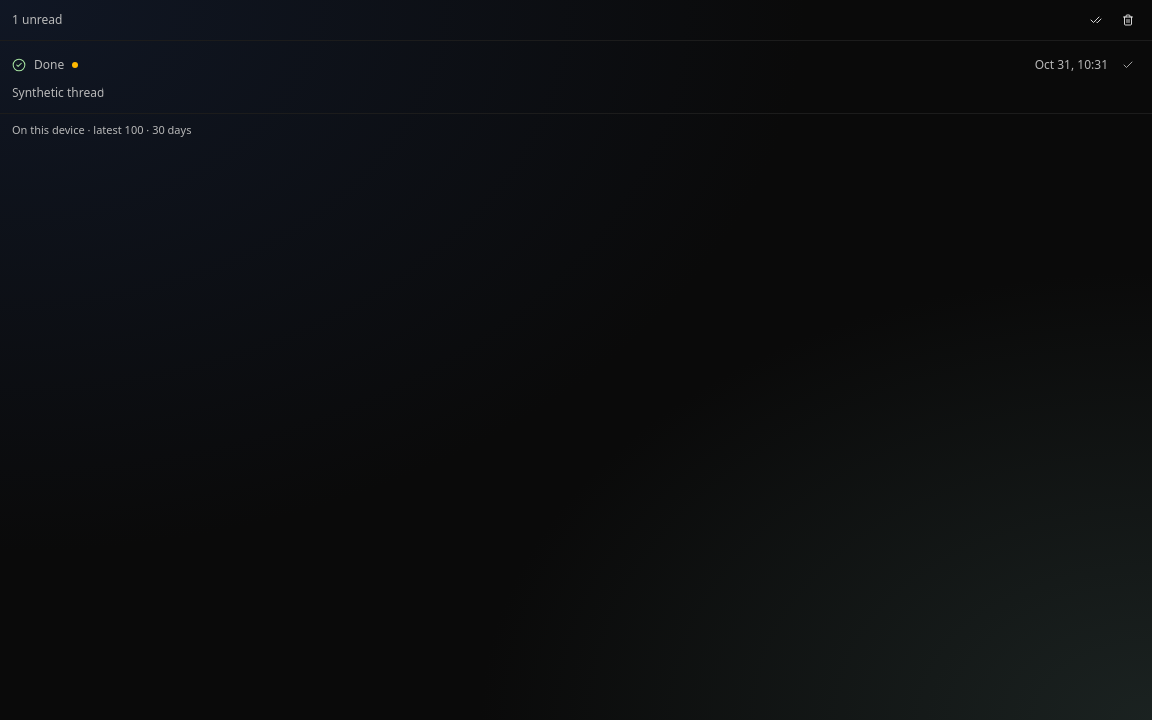
Scenario: Notifications center › opens a known thread, marks its notice read, and withdraws navigation after removal
The image size is (1152, 720).
Click the button "Synthetic thread" at (58, 93), box [12,85,104,101]
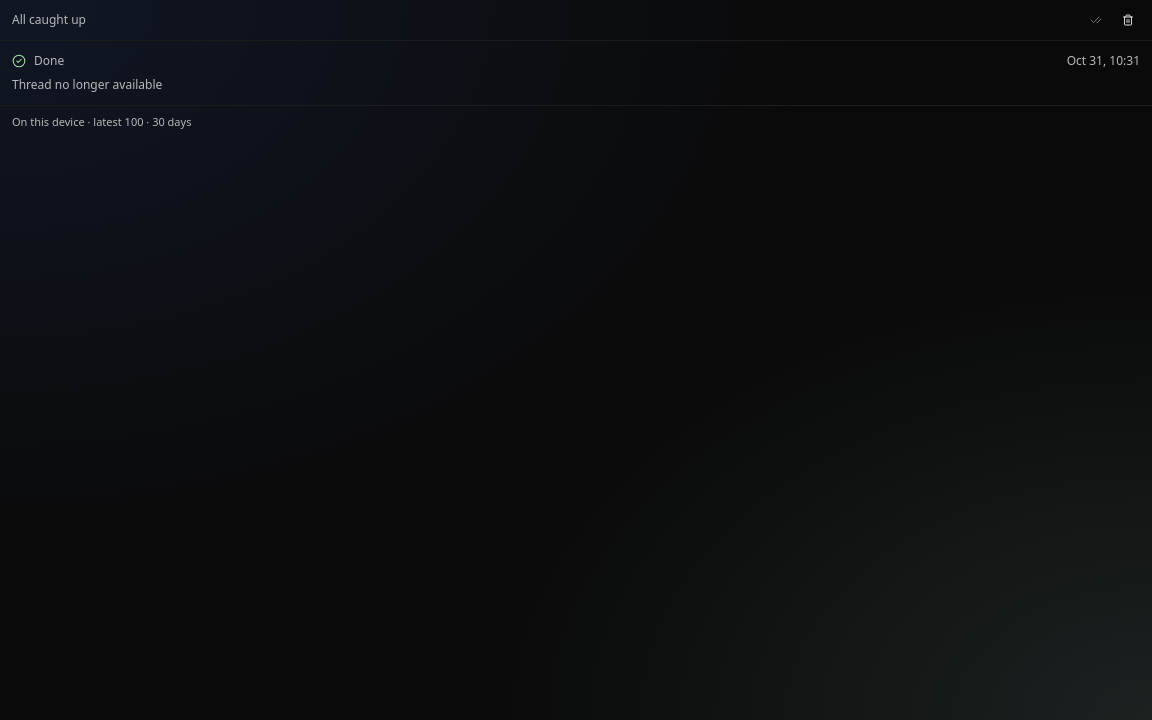
Check: the button "Synthetic thread" is gone
Check: the text "Thread no longer available" is shown, box [12,77,162,93]
